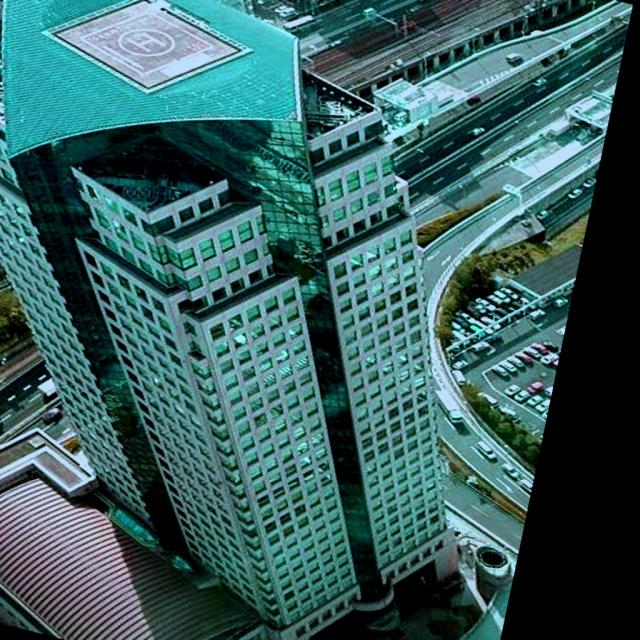helipad: (115, 26, 176, 58)
